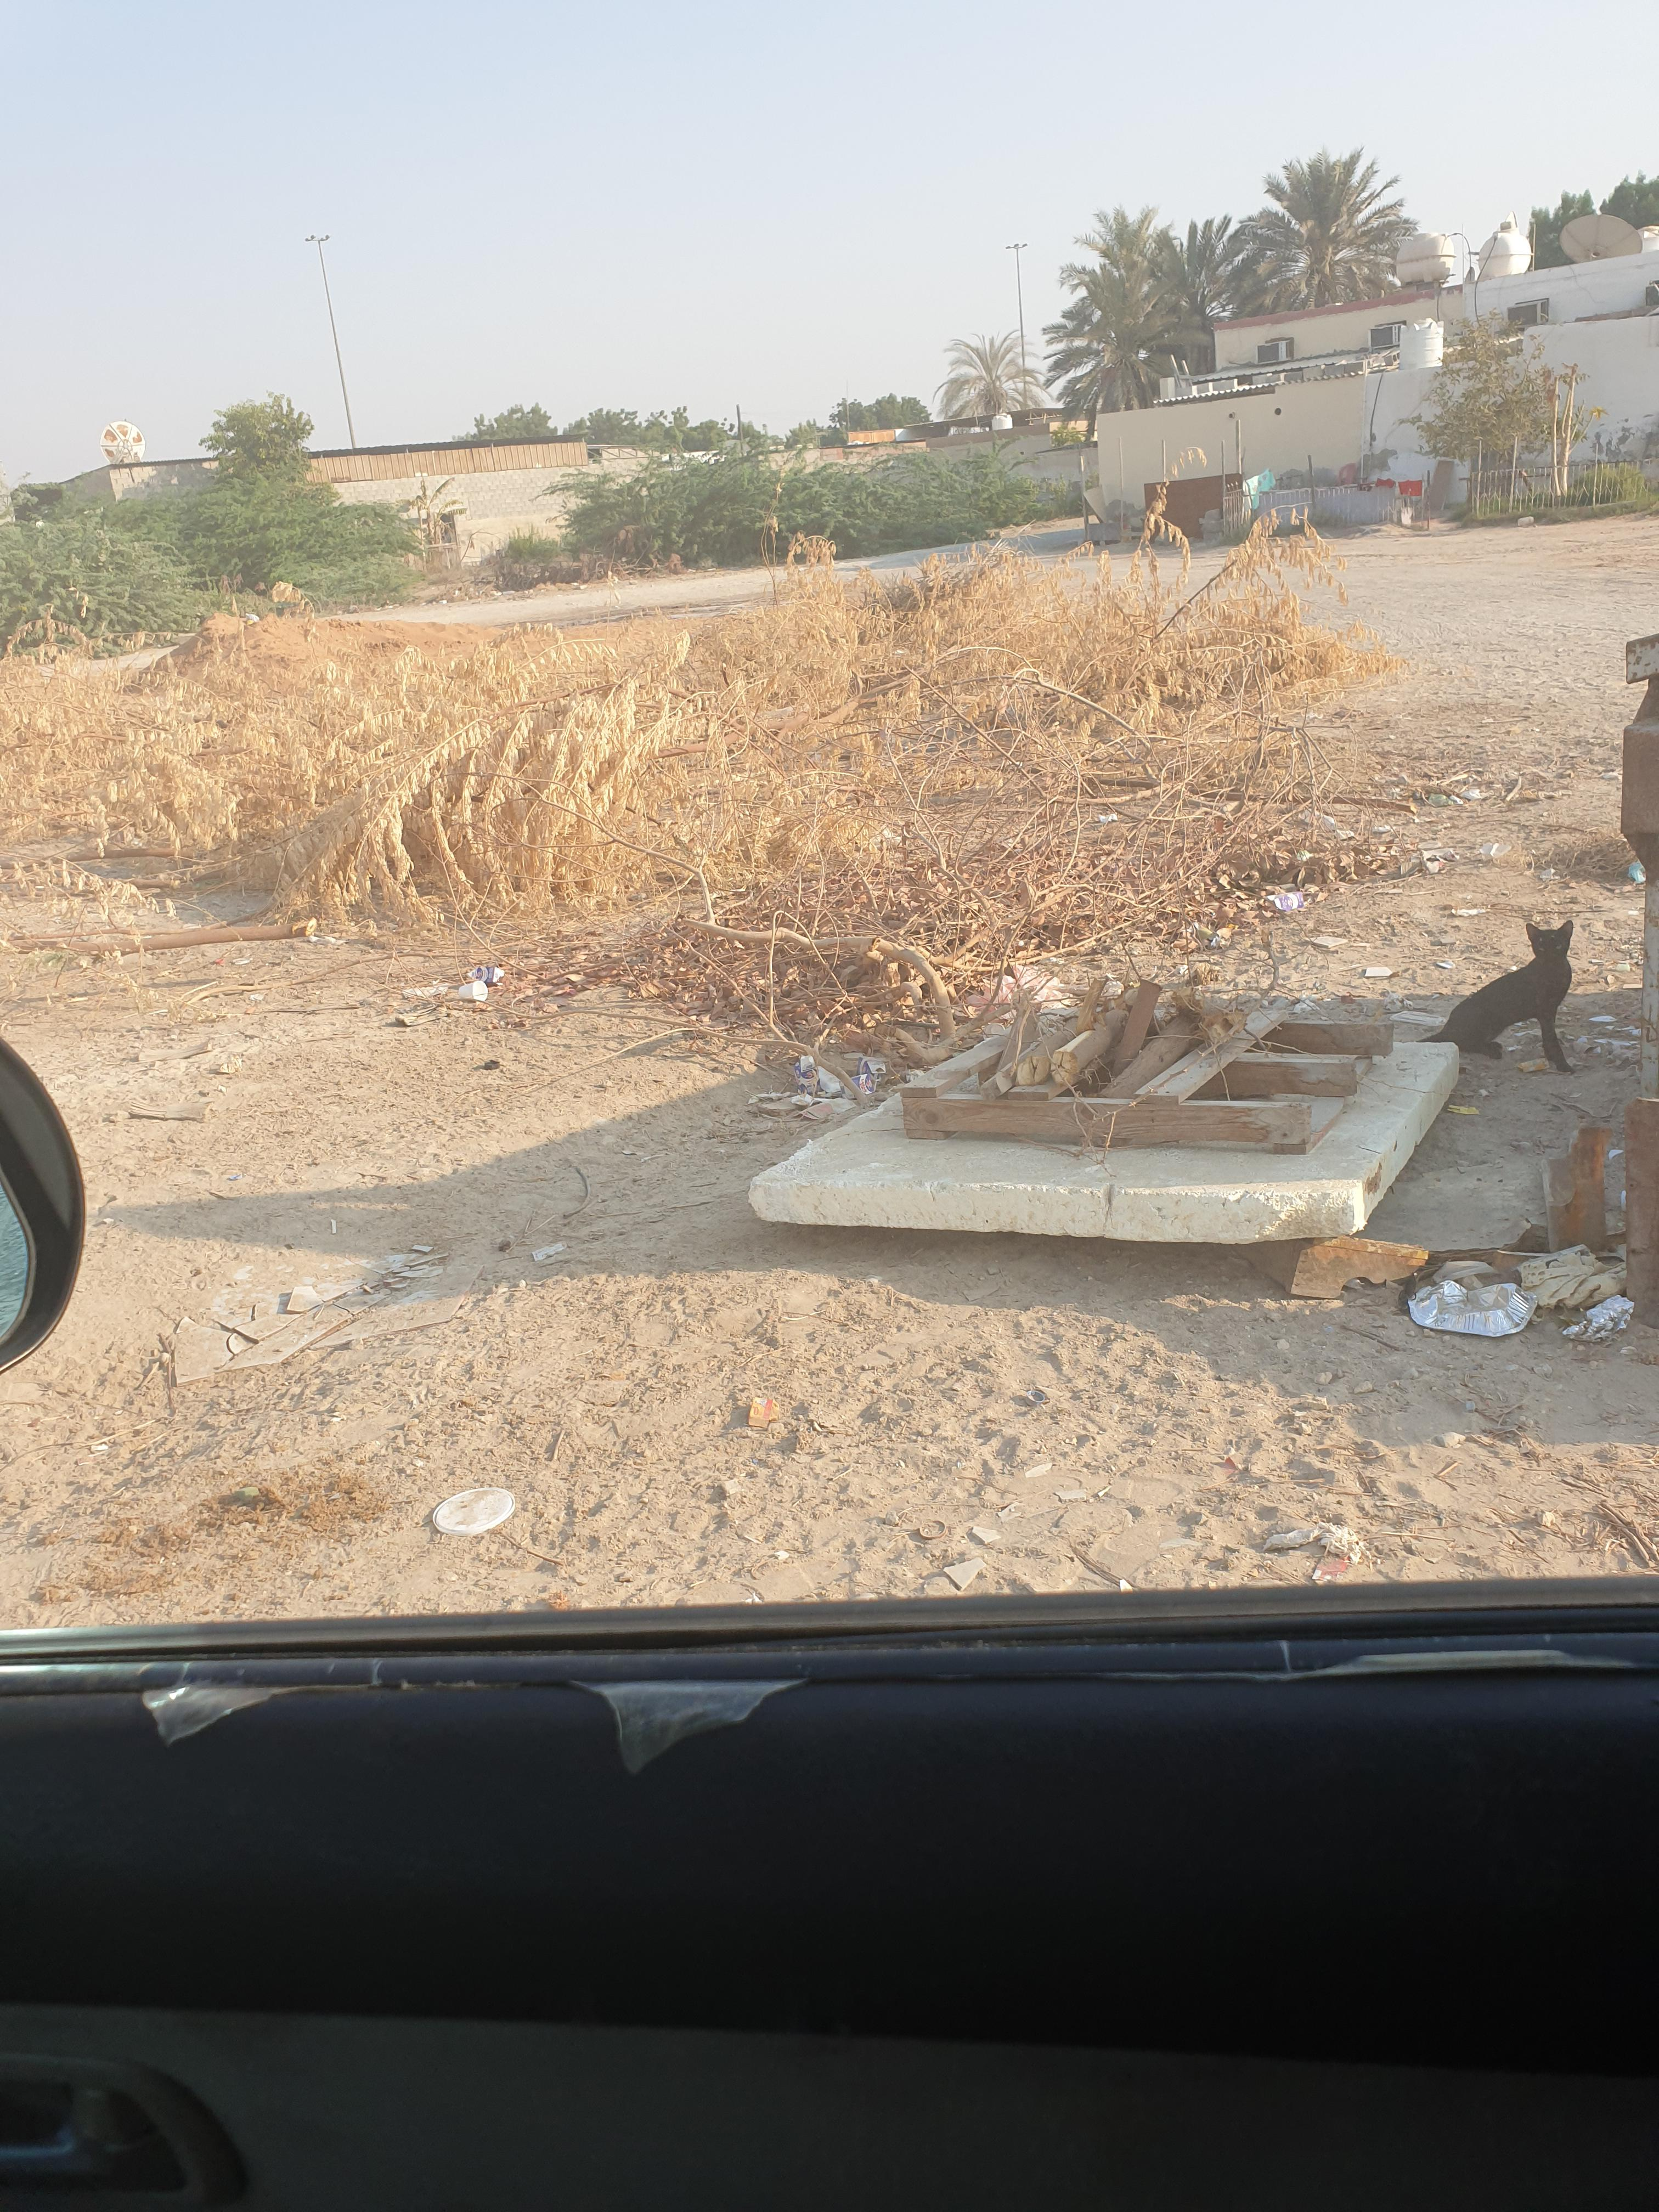fallen_trees: (64, 625, 976, 1075), (641, 554, 1464, 934)
uncollected_waste: (767, 946, 1441, 1301), (1326, 1174, 1659, 1430)
